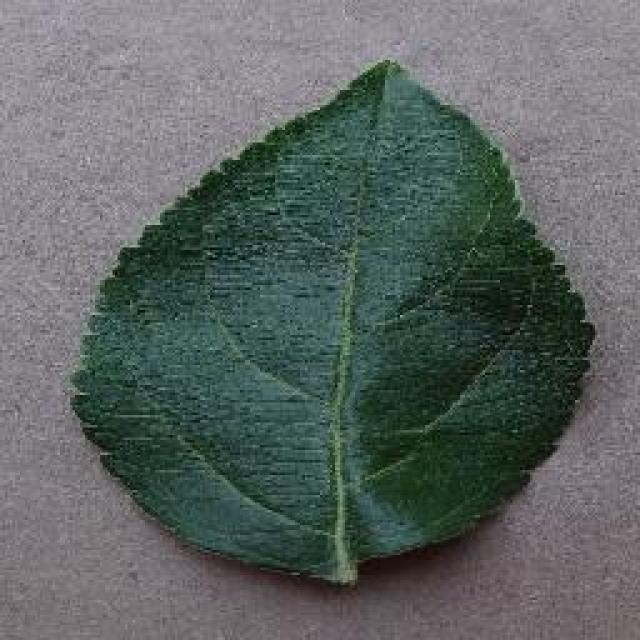apple healthy: (65, 55, 595, 587)
